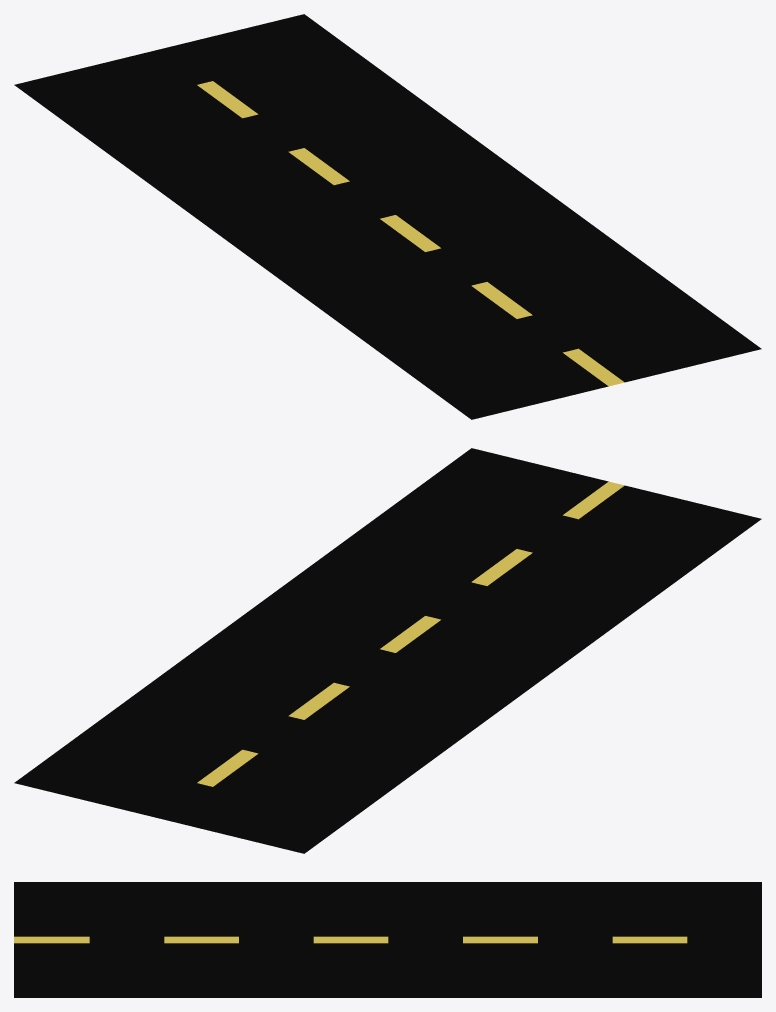
Rendered from Road.fbx.
The picture shows the model from 3 angles, top to bottom: view 1: azimuth 30°, elevation 25°; view 2: azimuth 150°, elevation 25°; view 3: azimuth 270°, elevation 25°; orthographic projection. The views are drawn at different scales.
Visible parts, largest first — view 1: Road; view 2: Road; view 3: Road.
Boxes of the visible parts, <box> form: Road: <box>14,14,761,419</box>; Road: <box>14,448,761,853</box>; Road: <box>14,882,761,997</box>.
Size of the model in its own units: 400 by 0.000178 by 1092.
